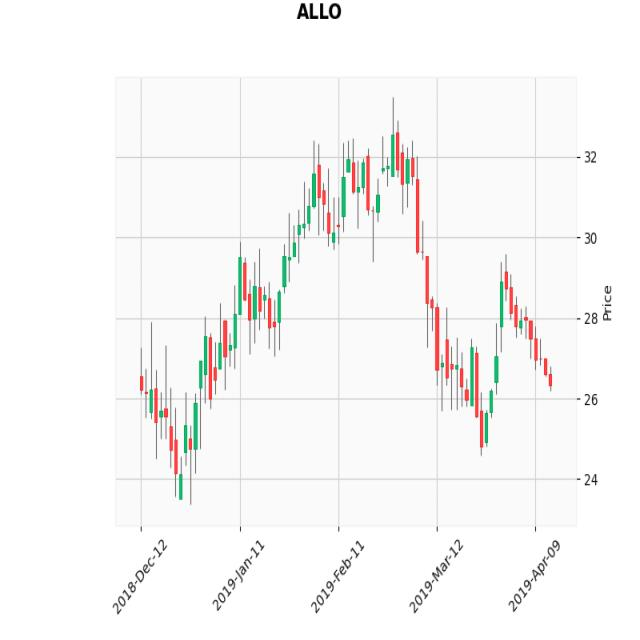Triple-Top: (279, 126, 429, 252)
